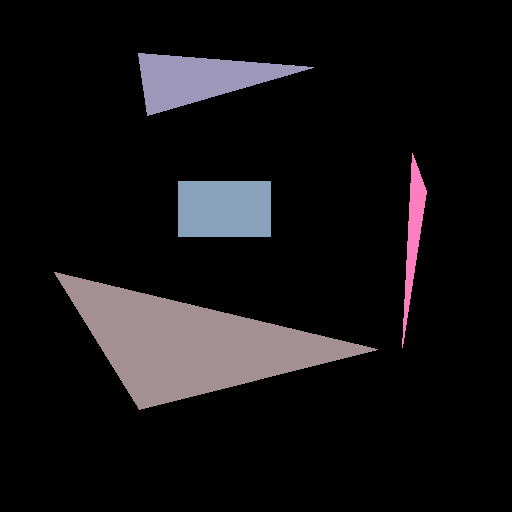rectangle: (178, 181, 270, 236)
triangle: (54, 272, 377, 409), (138, 53, 313, 115), (402, 153, 426, 347)
